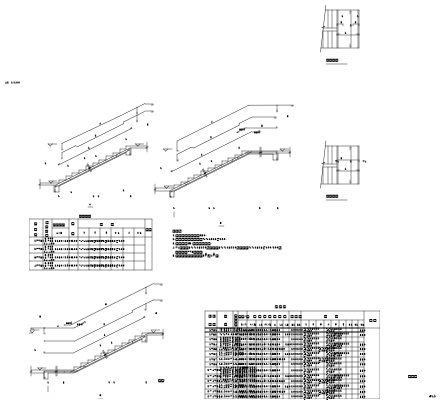corridor: (420, 0, 440, 74)
door: (50, 176, 61, 178)
room: (221, 0, 440, 90), (0, 133, 154, 185), (366, 356, 414, 405), (366, 217, 414, 265)
staircase: (372, 208, 381, 213), (372, 348, 381, 352)
wall: (178, 234, 279, 275), (52, 76, 147, 115), (56, 48, 145, 89), (37, 241, 129, 278), (186, 265, 276, 302), (41, 263, 113, 290), (222, 230, 279, 254), (206, 258, 263, 281), (62, 260, 118, 283), (77, 235, 126, 256), (97, 43, 145, 64), (32, 218, 77, 237), (177, 213, 221, 232), (52, 27, 96, 45), (76, 237, 104, 249), (221, 232, 249, 243), (96, 46, 124, 57), (249, 243, 275, 254), (113, 290, 136, 300), (124, 57, 147, 67), (104, 249, 127, 258), (41, 253, 58, 260), (186, 252, 203, 259), (365, 356, 369, 382), (365, 217, 369, 242), (369, 243, 372, 265), (369, 383, 372, 405)
